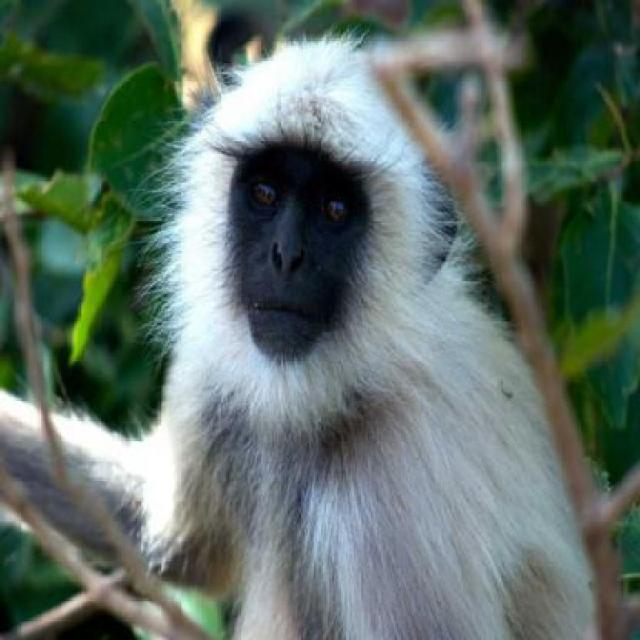Monkey: (161, 51, 574, 638)
